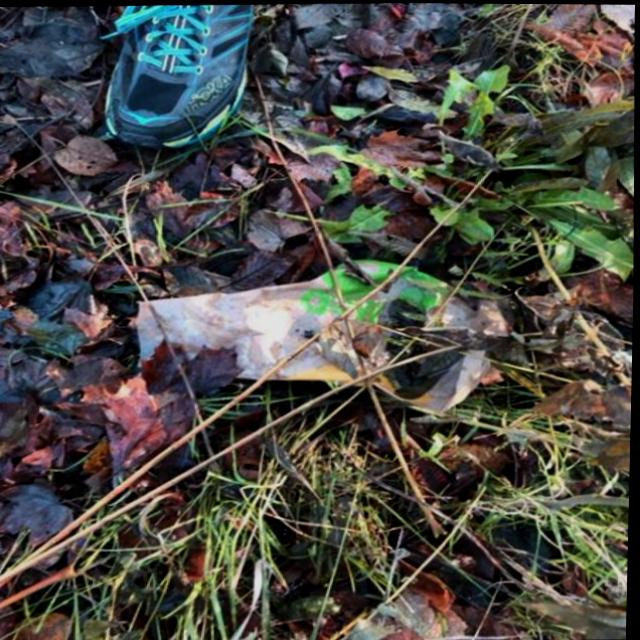Paper: (131, 252, 519, 423)
